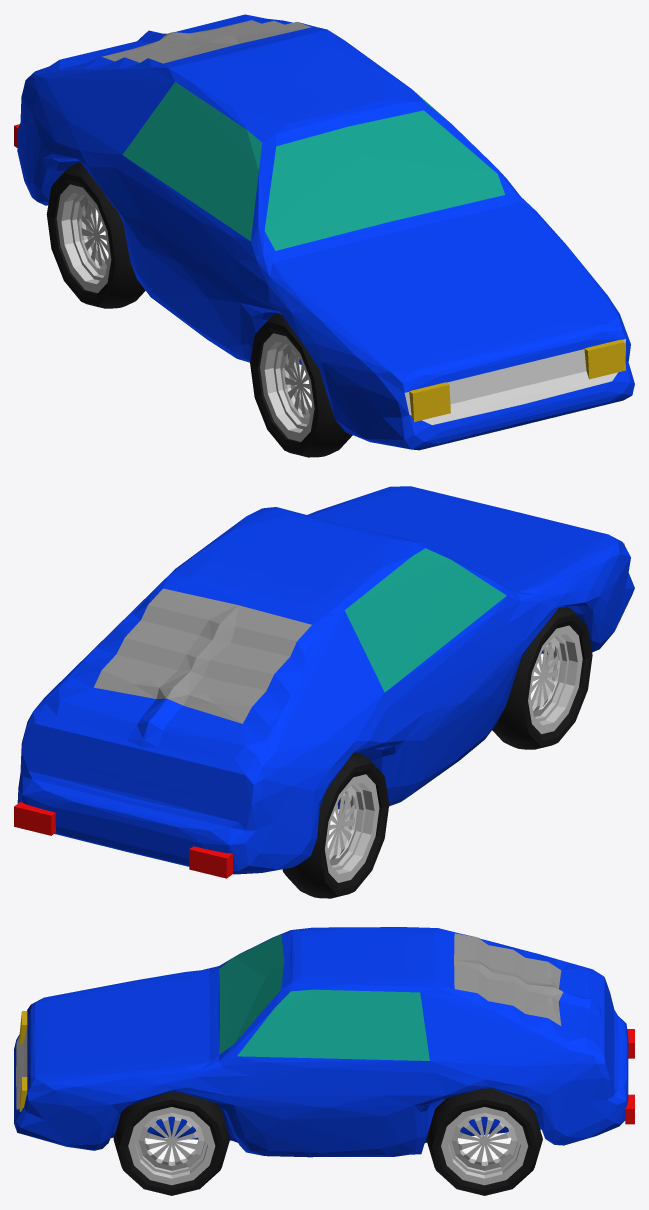
Rendered from SM_car_economy_01.FBX.
3 renders of one model, top to bottom at view 1: azimuth 30°, elevation 25°; view 2: azimuth 150°, elevation 25°; view 3: azimuth 270°, elevation 25°, orthographic. The views are drawn at different scales.
Parts seen in each view (by area): view 1: Group36198; view 2: Group36198; view 3: Group36198.
Part boxes in pixels (x1,y1,x2,y2): Group36198: (14,14,634,457); Group36198: (14,486,634,898); Group36198: (14,927,634,1195).
Size of the model in its own units: 202 by 169 by 493.
